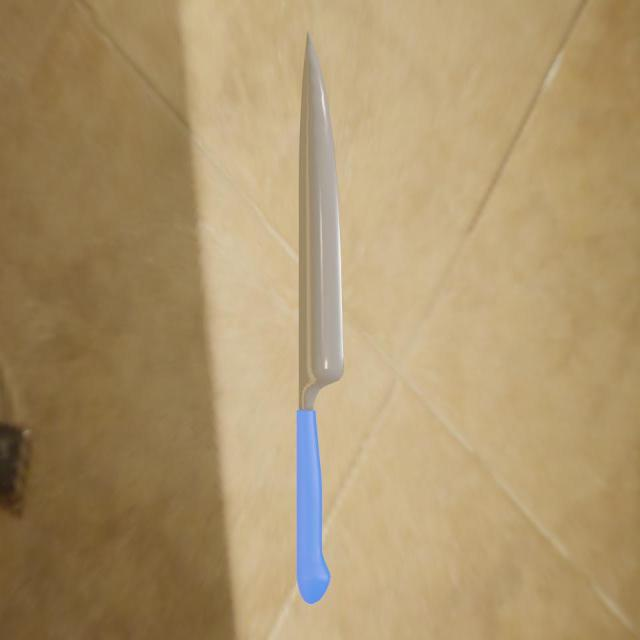knife: (296, 406, 331, 604)
